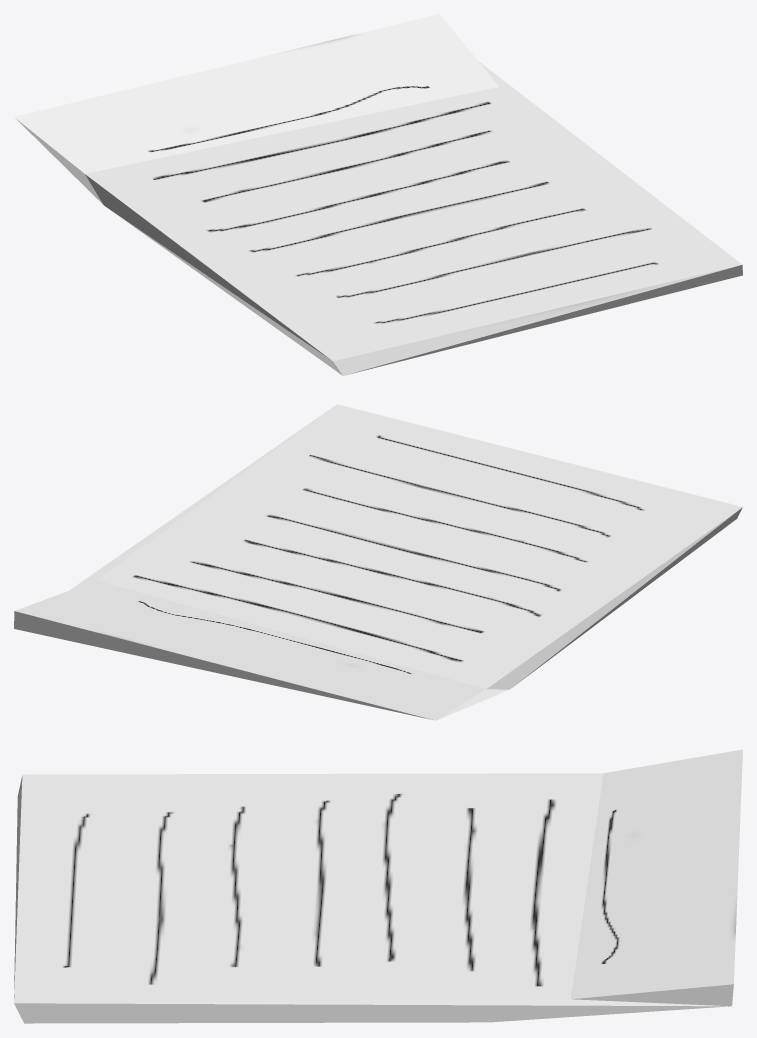
The model's file is papelfinal.fbx.
3 views of the same model, one above another, from view 1: azimuth 30°, elevation 25°; view 2: azimuth 150°, elevation 25°; view 3: azimuth 270°, elevation 25° (orthographic). The views are drawn at different scales.
Visible parts, largest first — view 1: Cube; view 2: Cube; view 3: Cube.
Part boxes in pixels (box(x1,y1,x2,y2)): Cube: box(14, 14, 742, 375); Cube: box(14, 404, 742, 720); Cube: box(14, 749, 742, 1023).
Size of the model in its own units: 112 by 9.09 by 144.
1 material, 1 textured.
